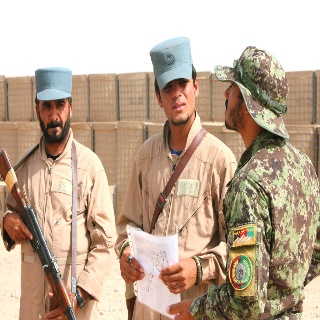rifle: (1, 148, 84, 320)
